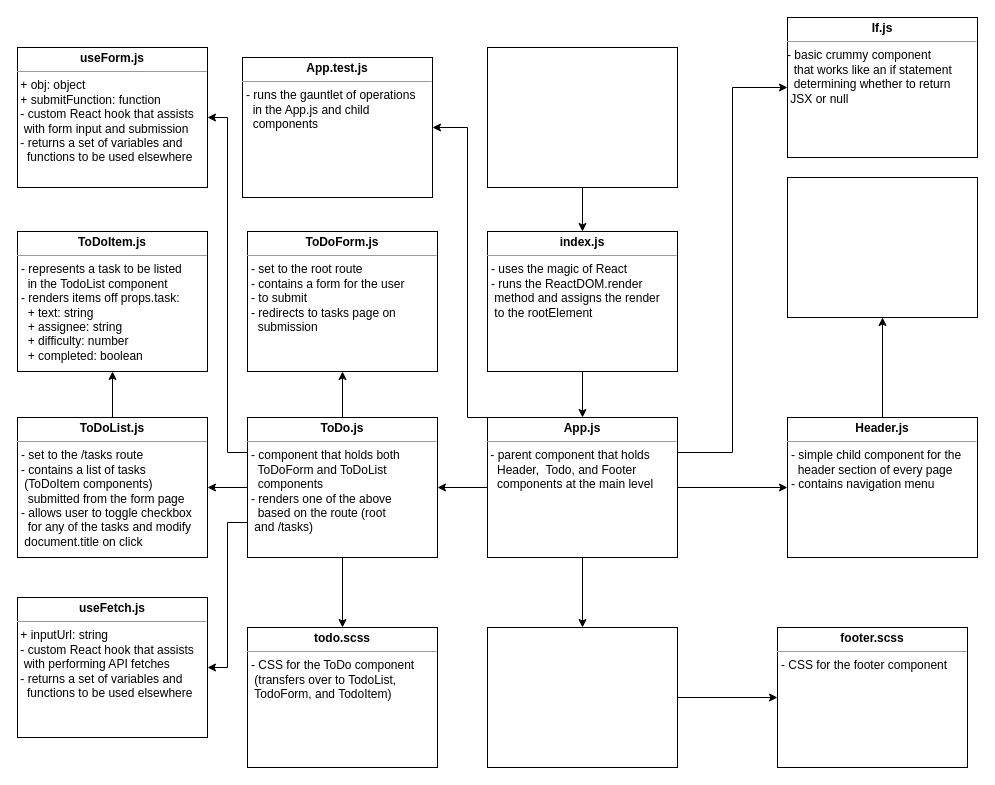
The diagram is 995 pixels wide and 785 high, and some of its shapes have lost their labels. Here are the shapes that lost their labels. From the top down, the box of each, then its label:
(486, 46, 678, 188): index.html - template file on which the React content gets rendered when running
(786, 176, 978, 318): header.scss - CSS for the header component
(486, 626, 678, 768): Footer.js - simple child component for the footer section of every page
